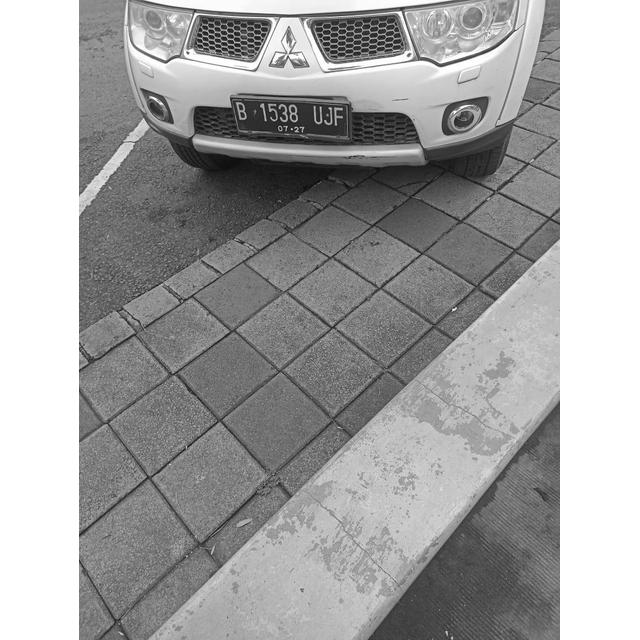license: (234, 100, 346, 135)
